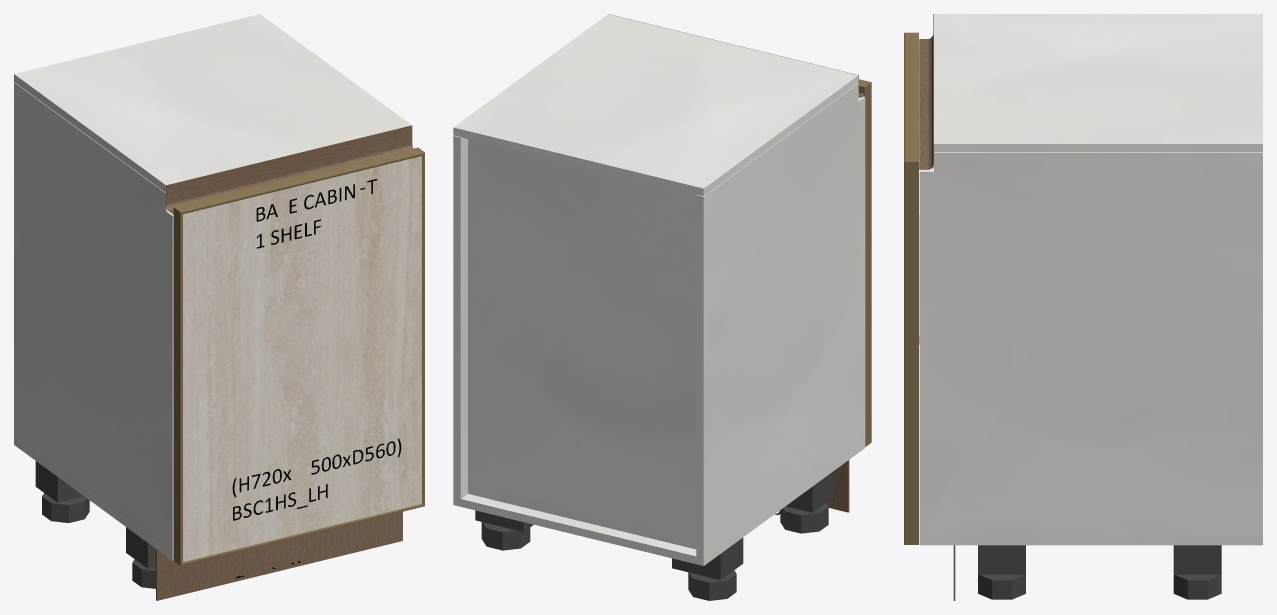
File: BC-SH-CJ-ST-1SX-LHS-XXX-500-720-560-15.glb
The picture shows the model from 3 angles, left to right: view 1: azimuth 30°, elevation 25°; view 2: azimuth 150°, elevation 25°; view 3: azimuth 270°, elevation 25°; orthographic projection. The views are drawn at different scales.
Parts seen in each view (by area): view 1: Object_node_11, TP_node, TP_node_1, Object_node_13, ExtrSplGeo, Extrusion_node_1, Extrusion, 2D text_node, TP, Foot, Extrusion_node, 2D text (+3 smaller); view 2: TP_node_3, TP_node, TP_node_1, TP_node_0, TP, Extrusion_node_1, Plate, Foot, Foot_node_0, Foot_node, Plate_node_0, Object_node_13 (+1 smaller); view 3: TP_node_0, TP_node_1, Extrusion_node, TP, ExtrSplGeo, Extrusion, Plate_node, Plate_node_1, Foot_node, Foot_node_1.
Part boxes in pixels (left/top/right/bottom): Object_node_11: left=183, top=156, right=421, bottom=561; TP_node: left=14, top=82, right=173, bottom=552; TP_node_1: left=14, top=14, right=411, bottom=192; Object_node_13: left=156, top=511, right=402, bottom=600; ExtrSplGeo: left=166, top=125, right=413, bottom=214; Extrusion_node_1: left=173, top=207, right=182, bottom=565; Extrusion: left=174, top=147, right=424, bottom=213; 2D text_node: left=232, top=438, right=401, bottom=520; TP: left=14, top=437, right=173, bottom=560; Foot: left=42, top=493, right=89, bottom=522; Extrusion_node: left=422, top=153, right=424, bottom=505; 2D text: left=256, top=179, right=377, bottom=248; TP_node_3: left=468, top=139, right=696, bottom=549; TP_node: left=696, top=83, right=865, bottom=558; TP_node_1: left=453, top=14, right=858, bottom=196; TP_node_0: left=453, top=135, right=467, bottom=498; TP: left=453, top=440, right=865, bottom=565; Extrusion_node_1: left=859, top=82, right=871, bottom=446; Plate: left=672, top=537, right=743, bottom=579; Foot: left=688, top=570, right=736, bottom=600; Foot_node_0: left=780, top=503, right=828, bottom=533; Foot_node: left=481, top=522, right=530, bottom=550; Plate_node_0: left=786, top=470, right=835, bottom=512; Object_node_13: left=826, top=460, right=849, bottom=512; TP_node_0: left=919, top=152, right=1262, bottom=536; TP_node_1: left=934, top=14, right=1262, bottom=152; Extrusion_node: left=904, top=162, right=918, bottom=544; TP: left=919, top=537, right=1262, bottom=545; ExtrSplGeo: left=919, top=14, right=933, bottom=169; Extrusion: left=904, top=32, right=918, bottom=161; Plate_node: left=1173, top=545, right=1221, bottom=574; Plate_node_1: left=978, top=545, right=1025, bottom=574; Foot_node: left=1173, top=574, right=1221, bottom=599; Foot_node_1: left=978, top=574, right=1025, bottom=599.
Size of what is drawn, in the model's own units: 0.5 by 0.82 by 0.5899.
Materials: 6 (3 with a texture image).
